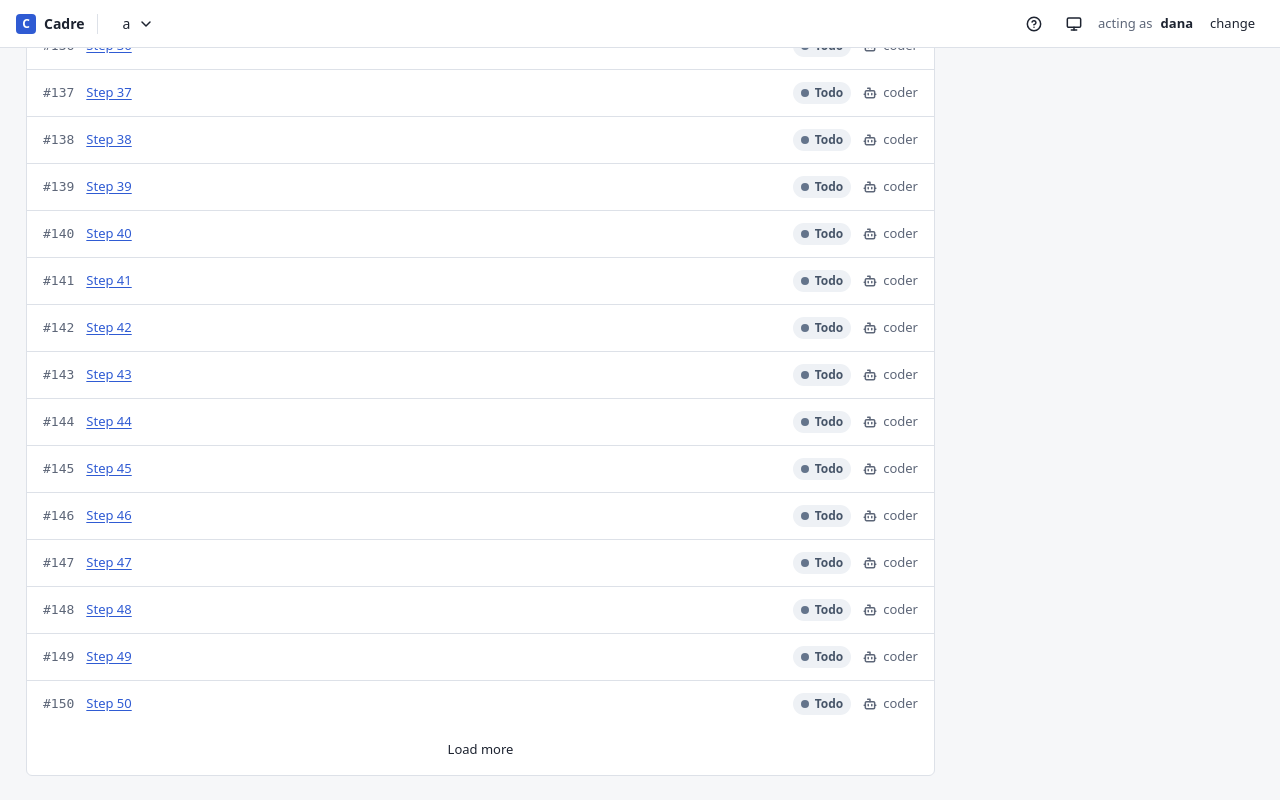
Test: Subtasks › loads more past a page, and keeps polling every page loaded
(page scrolled)
Click the button "Load more": (480, 749) [43,735,918,763]
Wait 5000 ms
(page scrolled)
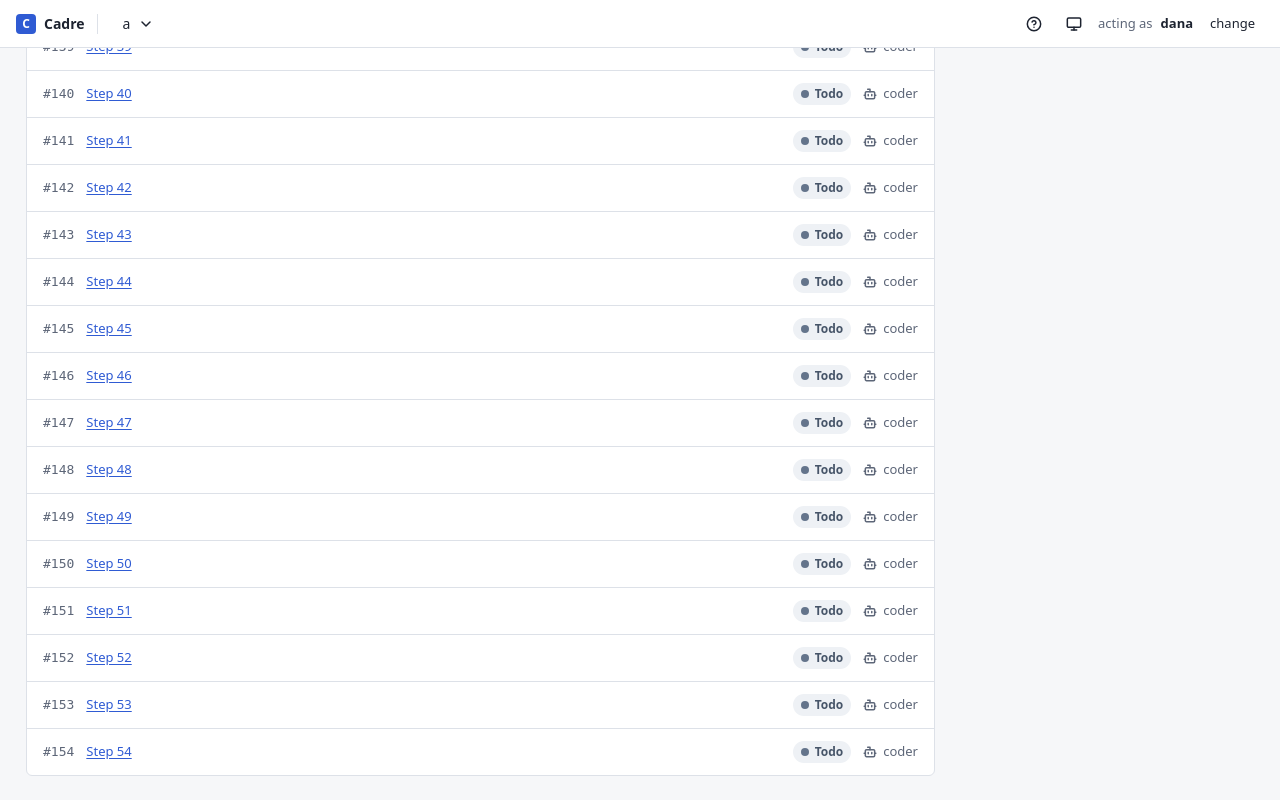
Result: the button "Load more" is gone
